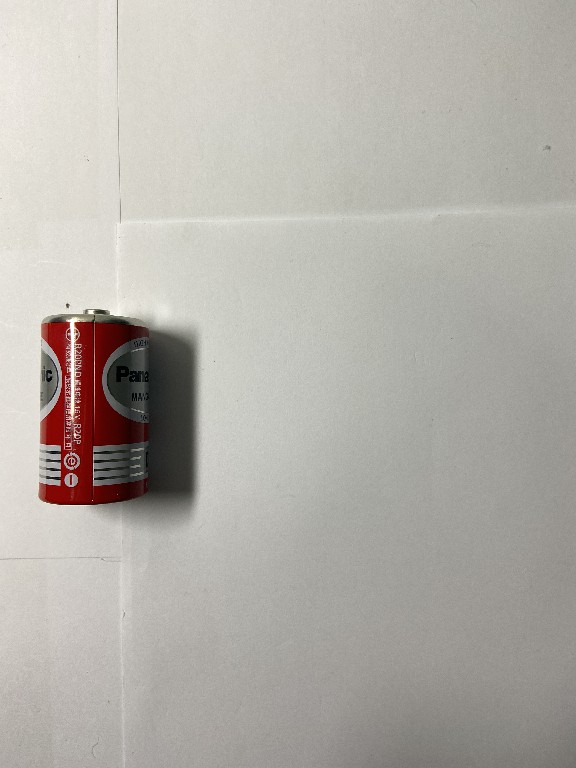charge: (33, 307, 150, 510)
